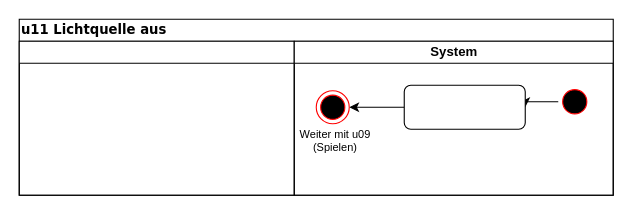
Some shapes in this 633 by 215 pixel diagram are drawn without their labels. The shapes that lost their labels are listed below. From the top down, each one's centre as x and y in pixels, then its label:
point (156, 117): Anwender
point (464, 106): a11.1 Zurücksetzen zur letzten Fackel
